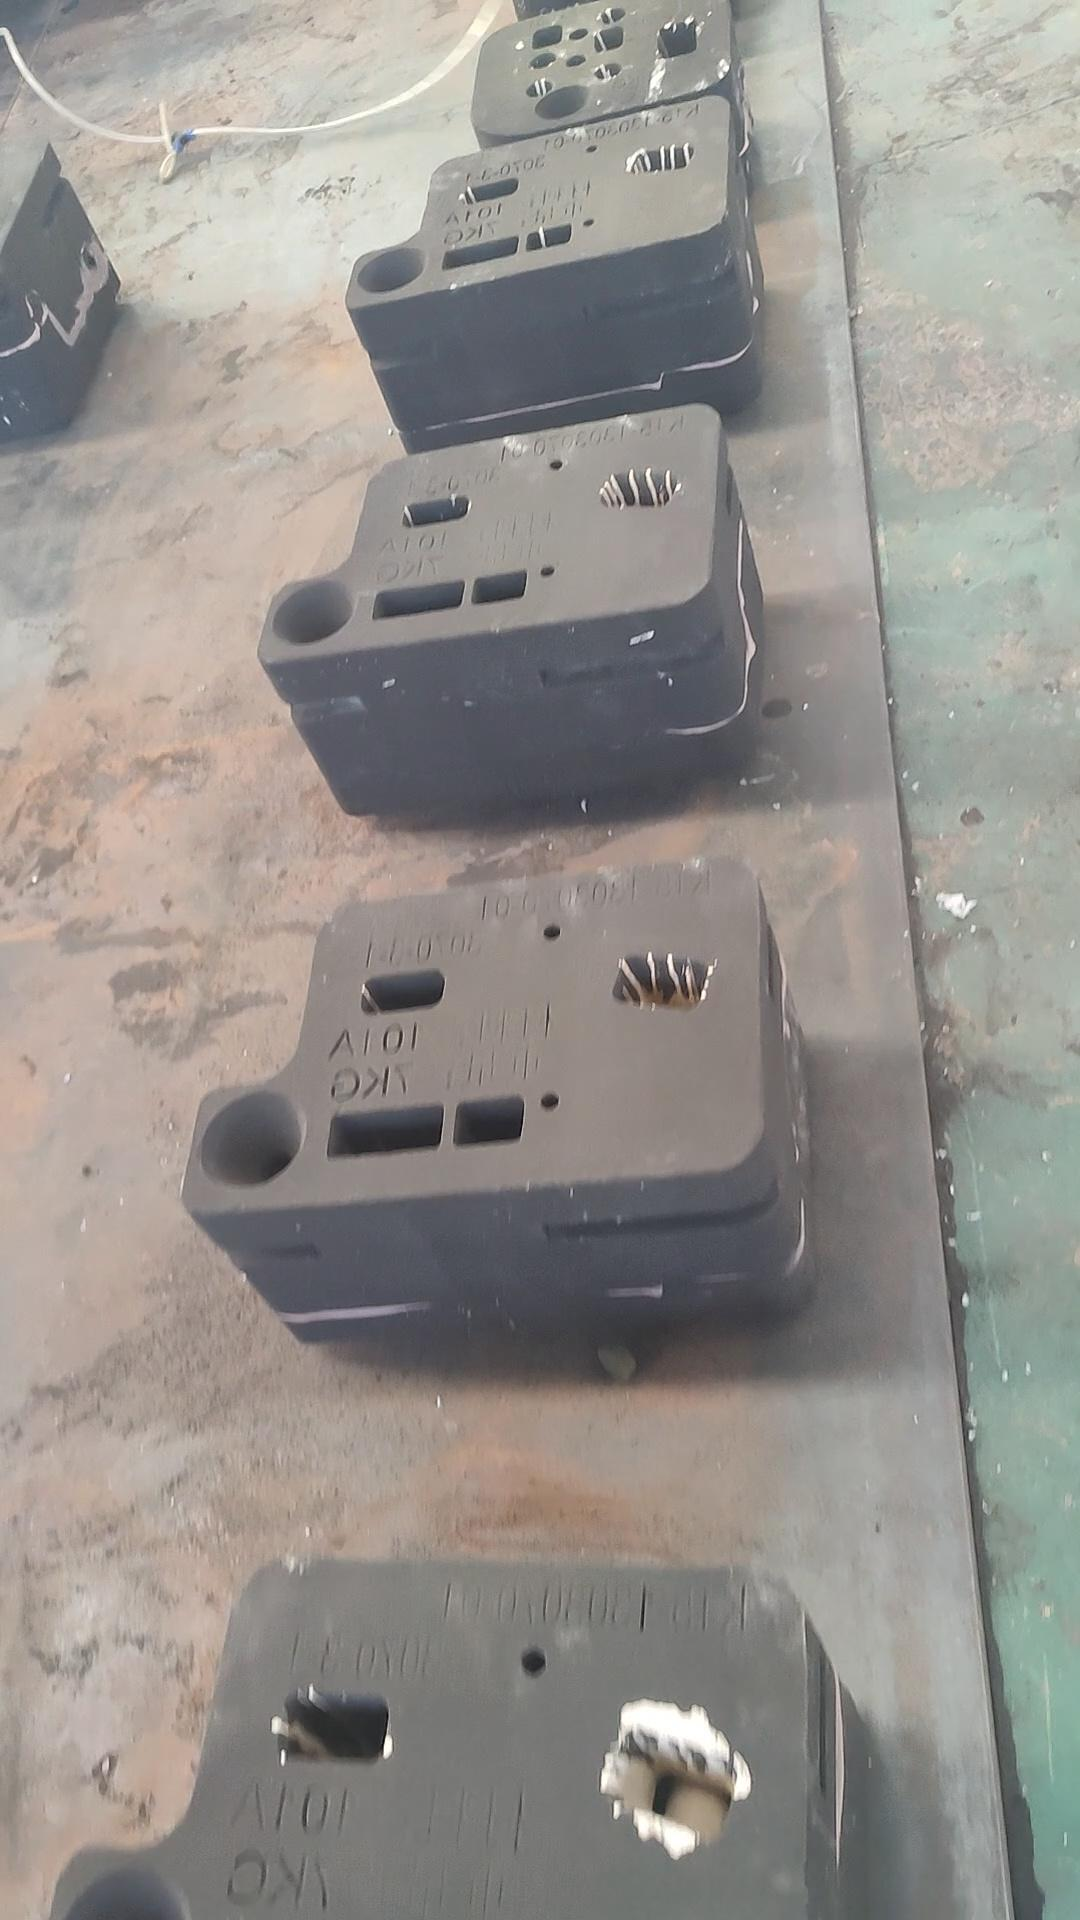pouring hole: (200, 1093, 303, 1188), (61, 1865, 185, 1920), (272, 580, 355, 644), (359, 247, 426, 291), (534, 84, 587, 117)
